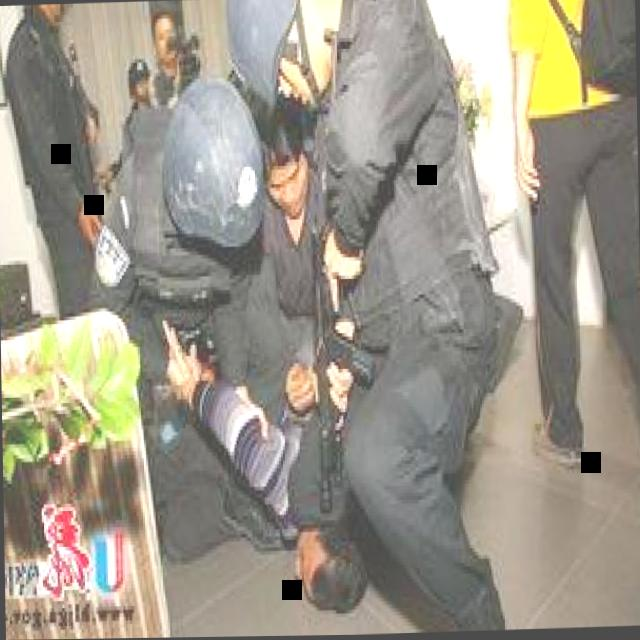Fall-Detected: (170, 63, 372, 627)
